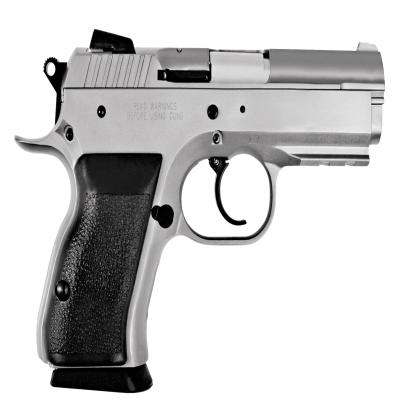handgun: (17, 25, 385, 393)
